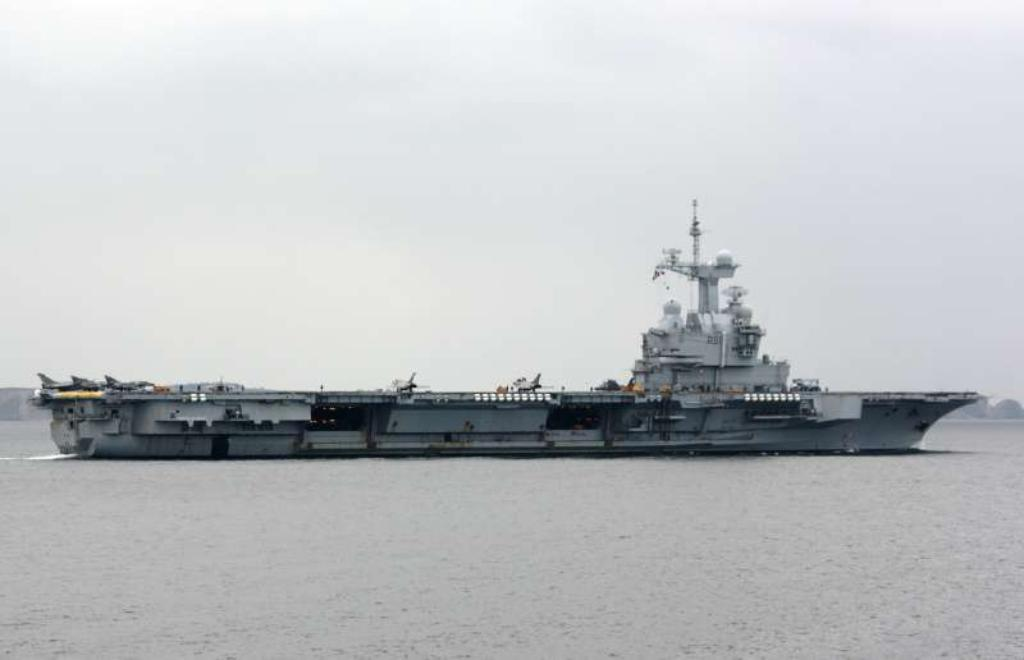Warship: (27, 194, 987, 464)
